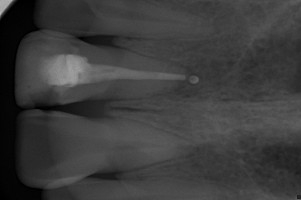Furcation Involvement: (175, 70, 203, 96)
